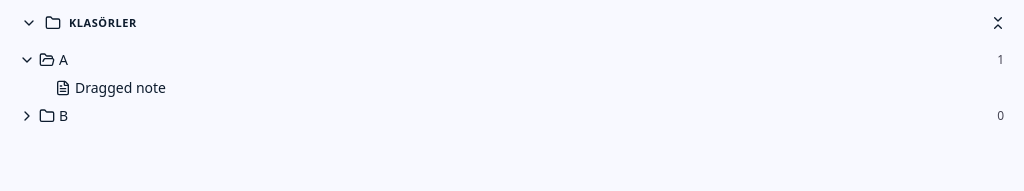
Test: SidebarTree drag preview › shows the open folder icon and direct count and cleans up on unmount
Press the mouse on the list item named "Klasör: A": (27,60) [12,46,1012,74]
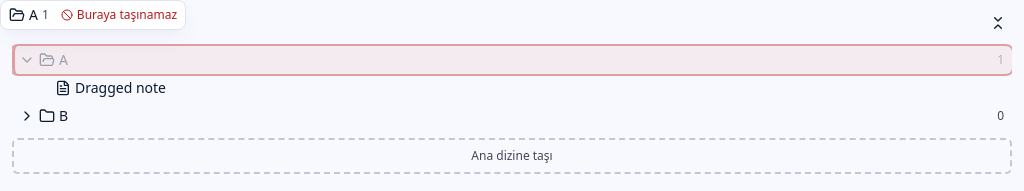
Check: the element with test id "tree-drag-preview" is shown, box [0,0,186,30]
Check: the element with test id "tree-drag-preview" shows "A", box [29,5,38,24]
Check: the text "1" next to "Buraya taşınamaz" is shown, box [42,6,49,23]
